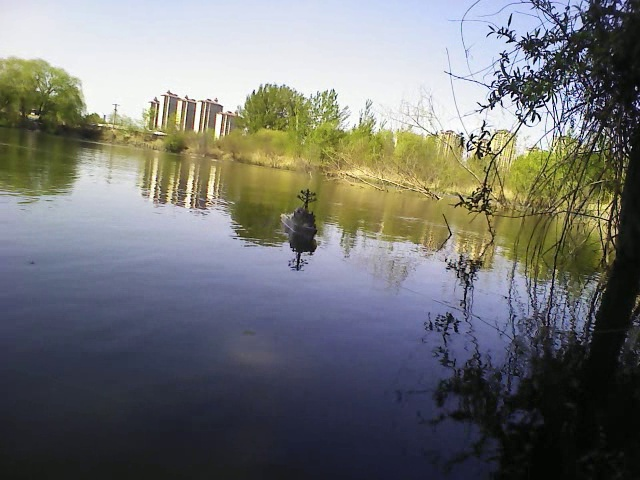warship: (281, 182, 321, 253)
